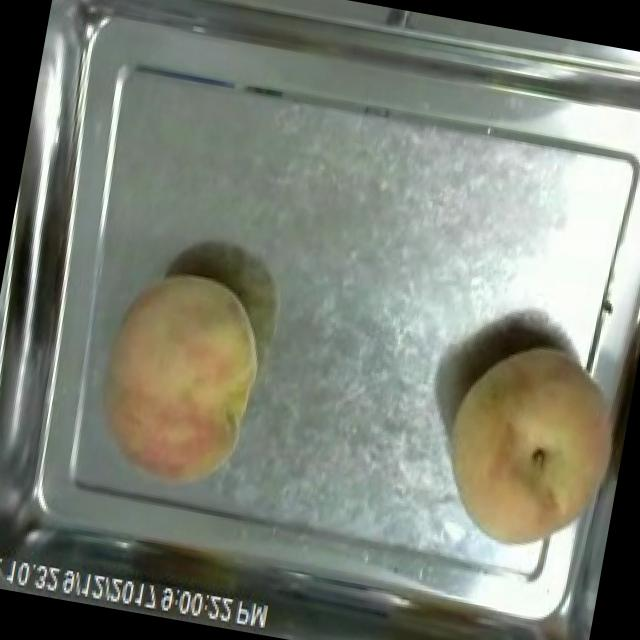Fruit: (72, 251, 282, 510), (422, 324, 638, 568)
